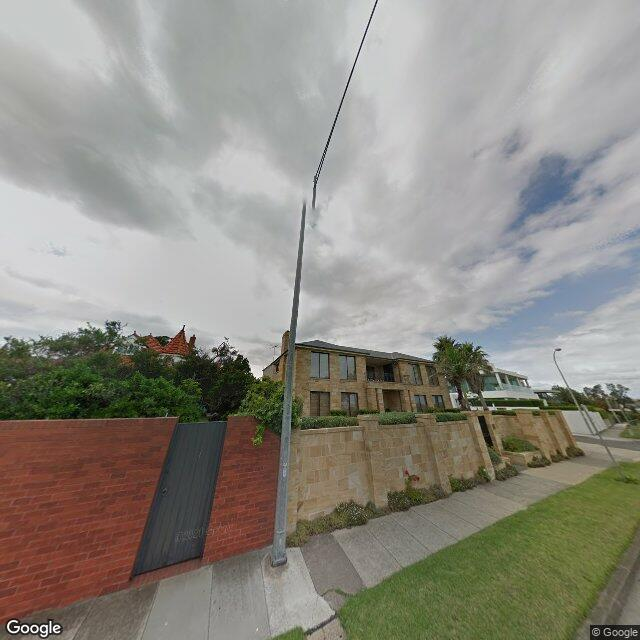steel-pole: (270, 184, 317, 568), (556, 366, 616, 464)
streetlight: (314, 56, 358, 182), (553, 348, 562, 365)
